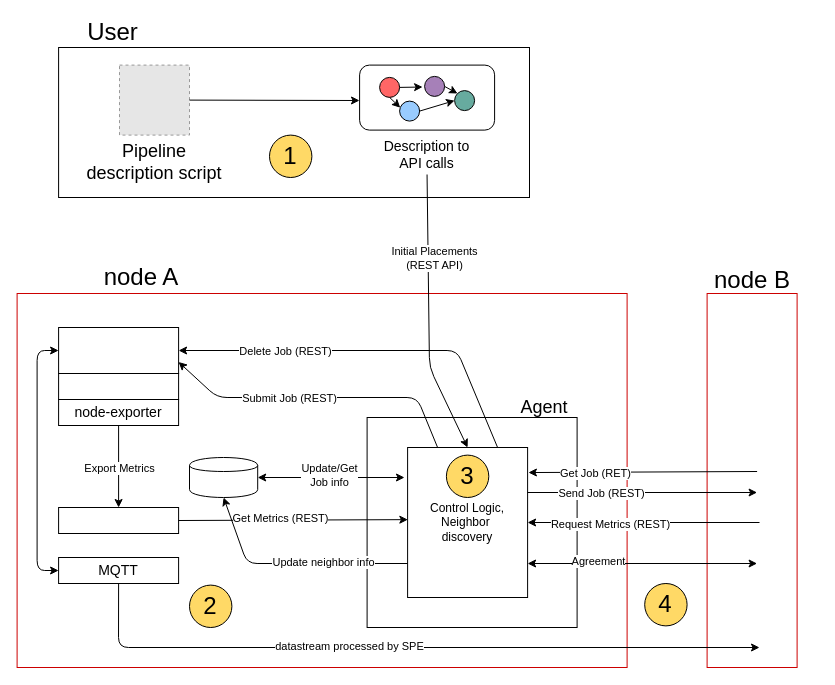
The diagram is 835 pixels wide and 685 high, and some of its shapes have lost their labels. Grey dashed boxes stand in for pictures. Each missing label, with the centre of its shape:
cAdvisor: (118,386)
Database: (223,477)
Flink: JM TM: (118,350)
Prometheus: (118,520)
